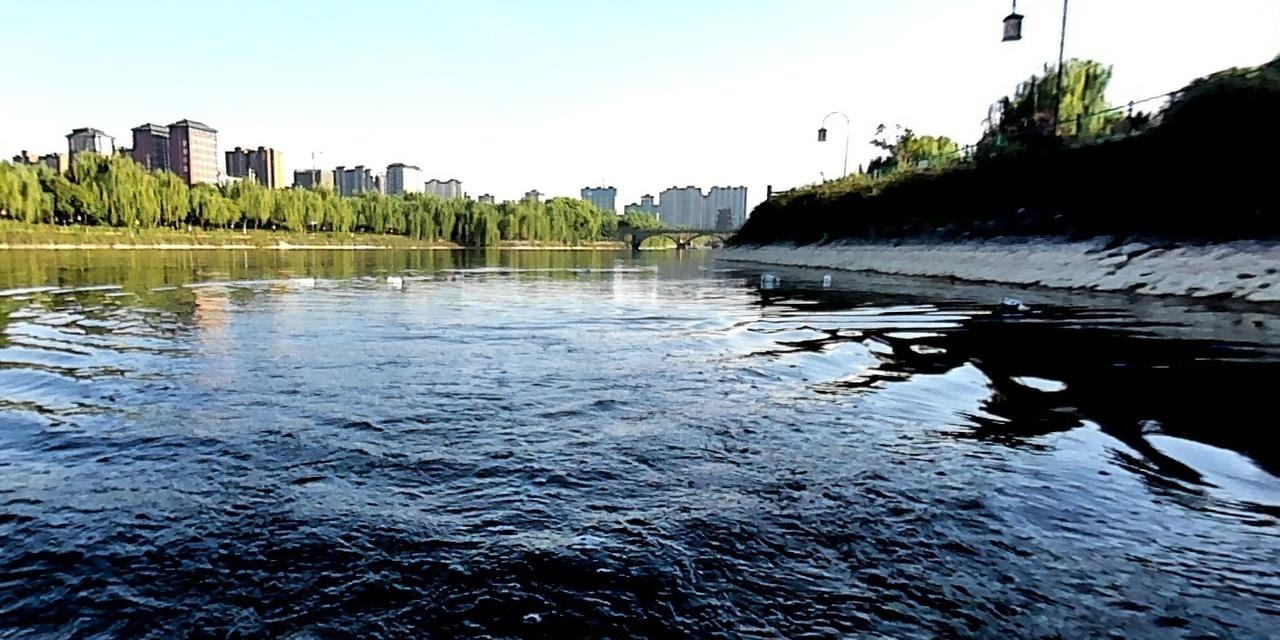bottle: (756, 270, 784, 285), (441, 270, 467, 282)
